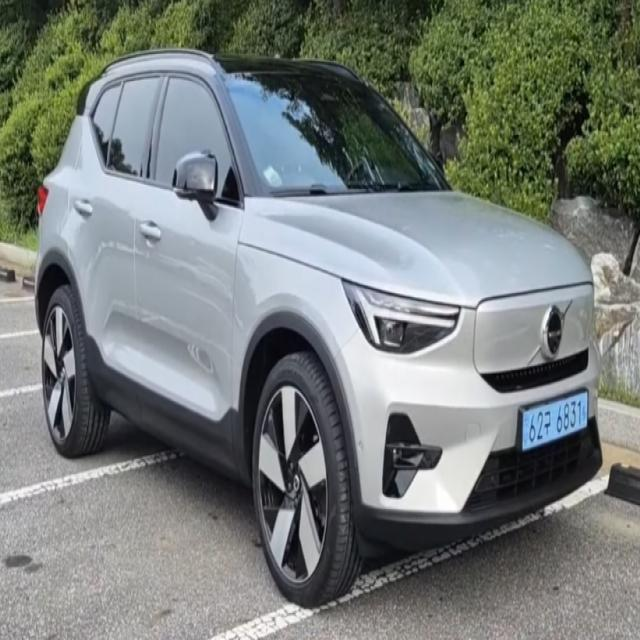car: (516, 383, 595, 467)
carev: (521, 408, 530, 455), (582, 395, 589, 432)
